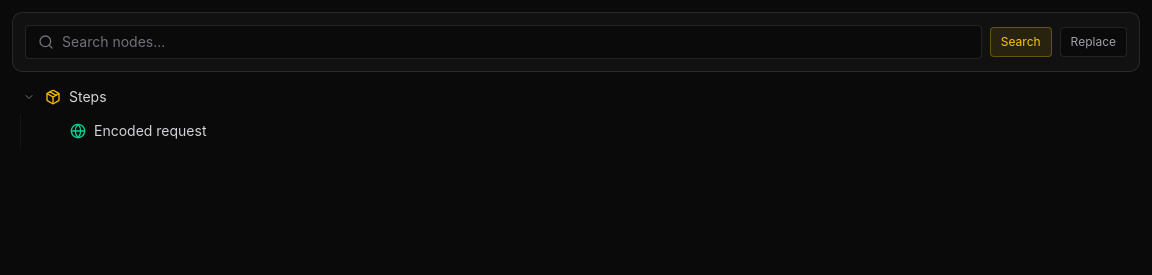
Test: YAMLTreeView replacement › keeps encoded URL values visible to Tree search and replacement
In the field with placeholder "Search nodes...": {"x": 515, "y": 42} [62,32,969,52], type "hello world"
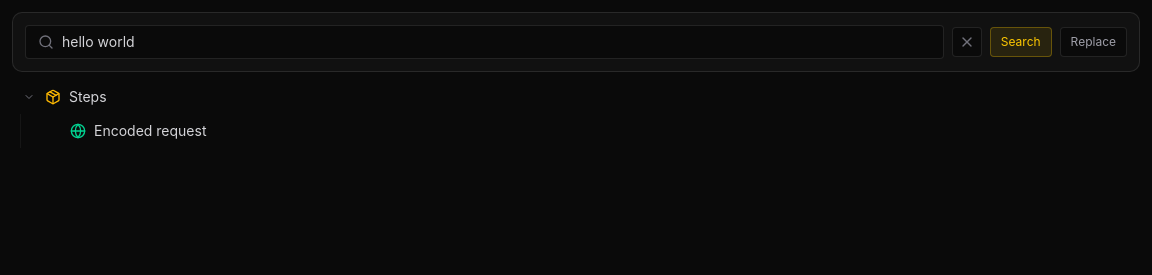
Click the button with aria-label "Search tree": {"x": 1021, "y": 42} [990,27,1052,57]
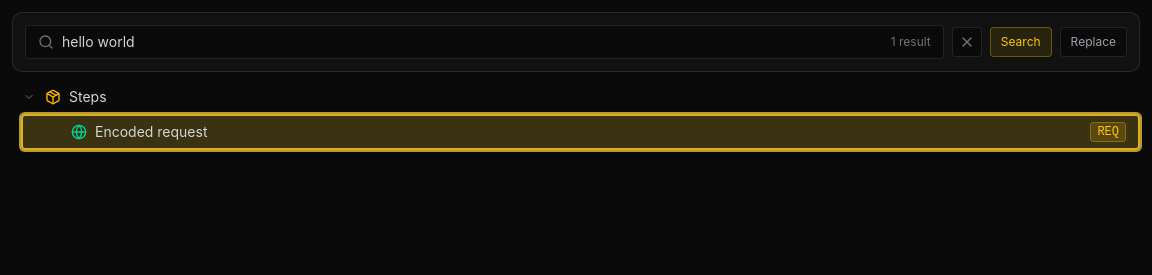
Expected: the list item "Encoded request req" is shown, [21,114,1140,150]
Now the text "req" is shown, box [1090,122,1126,142]
Click the button "Replace": {"x": 1093, "y": 42} [1060,27,1127,57]
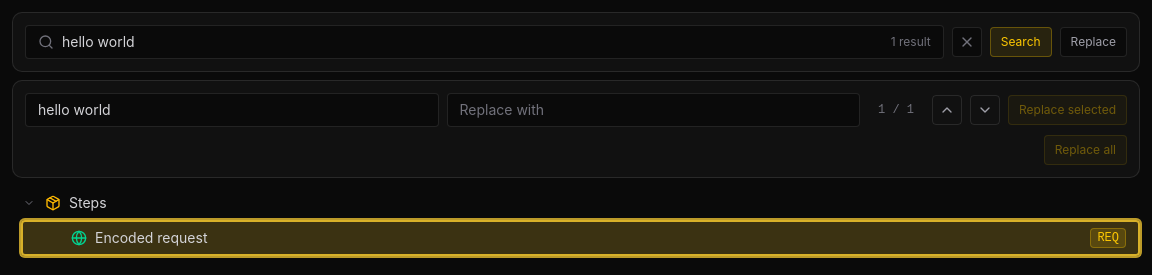
Now the text named "Replace match position" reads "1 / 1", box [878,103,914,117]
